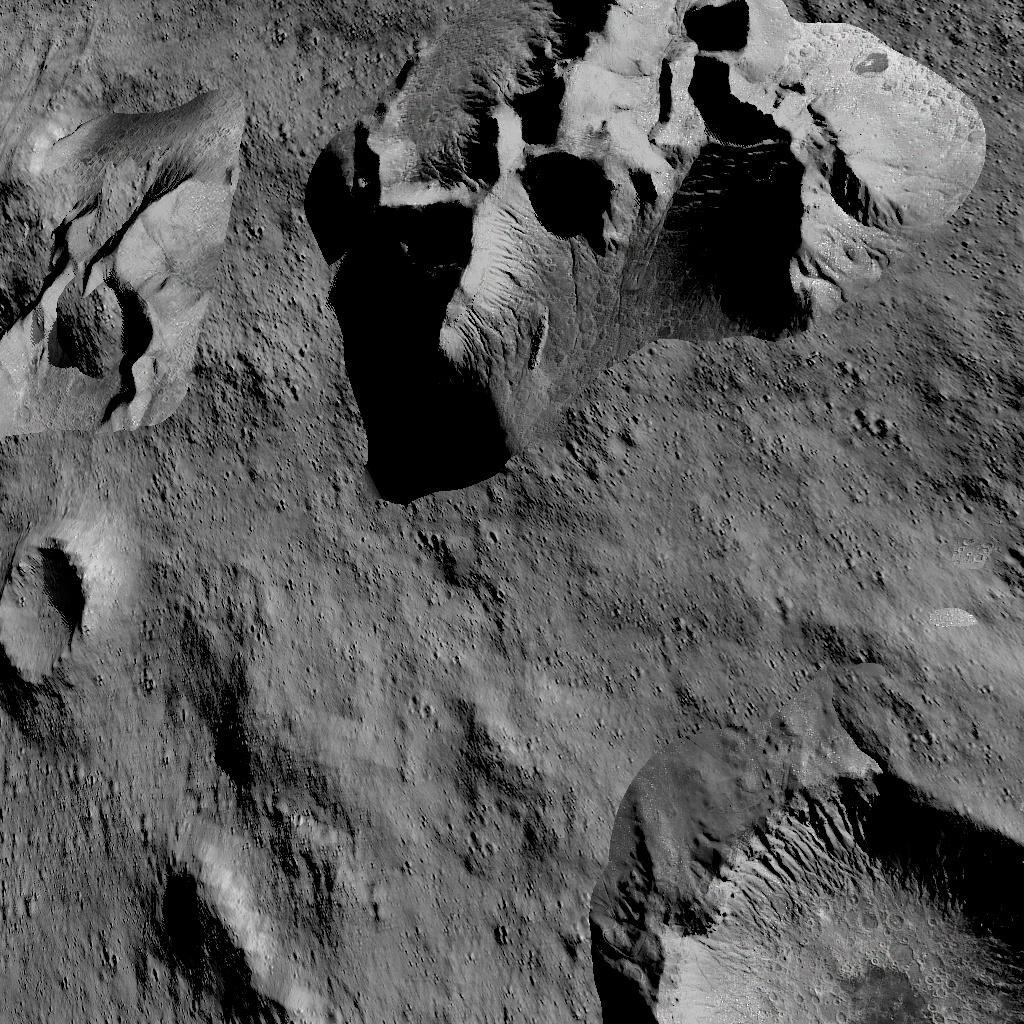Boulders: (308, 0, 992, 502), (0, 84, 251, 450)
Crater: (617, 740, 1024, 1024), (0, 516, 107, 686)
Plan surface: (323, 516, 1020, 729), (331, 748, 602, 1024)
